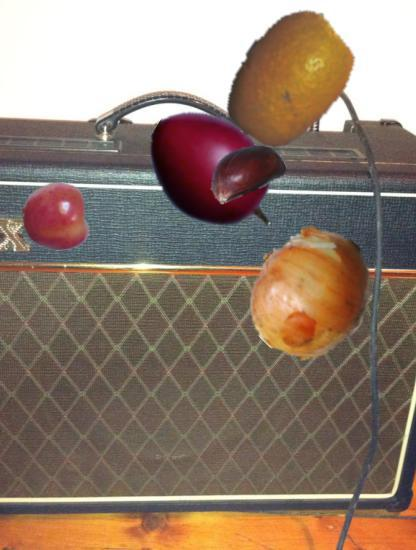Cherry: (21, 183, 90, 252)
Chestnut: (205, 130, 286, 211)
Kumquats: (218, 6, 362, 150)
Onion: (242, 225, 376, 359)
Tamarillo: (141, 100, 288, 247)
